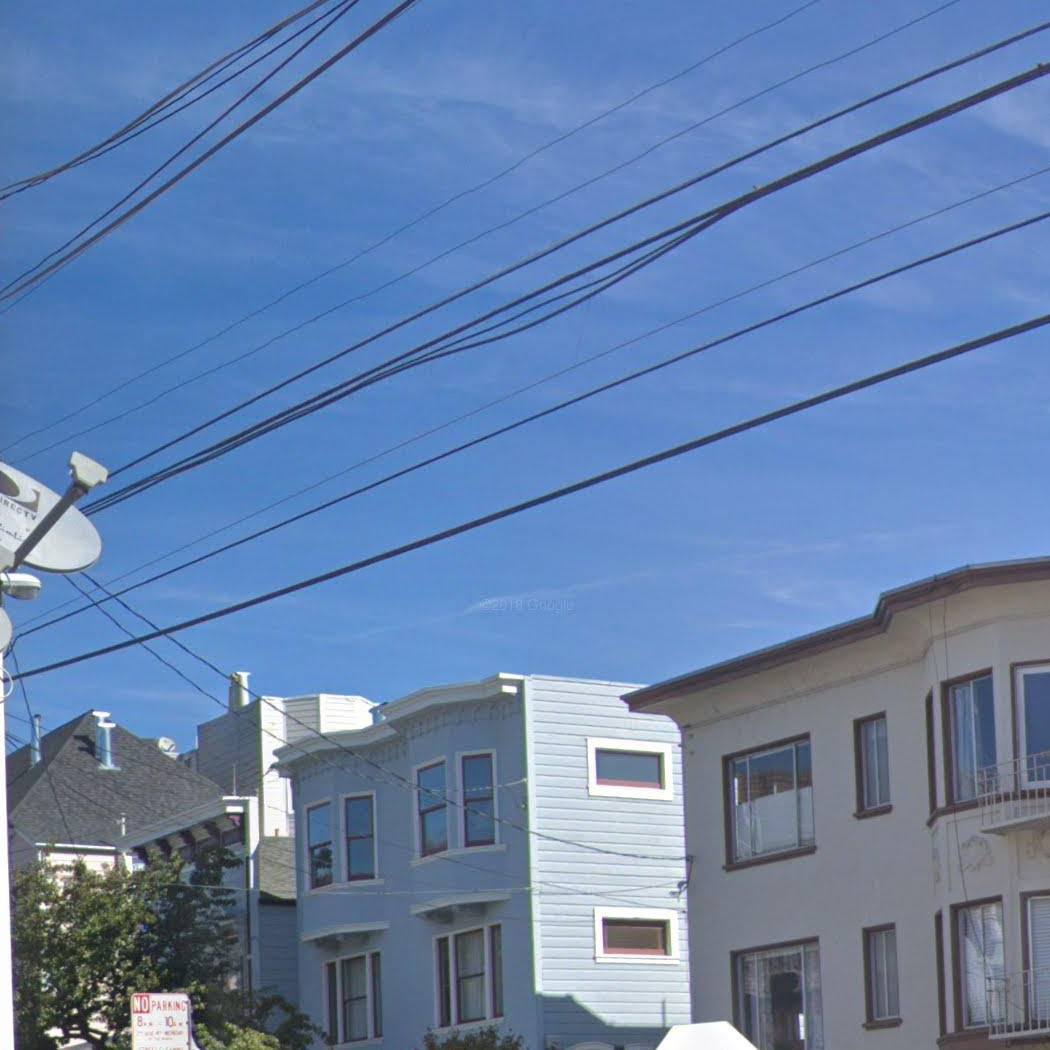No Parking: (124, 991, 194, 1050)
